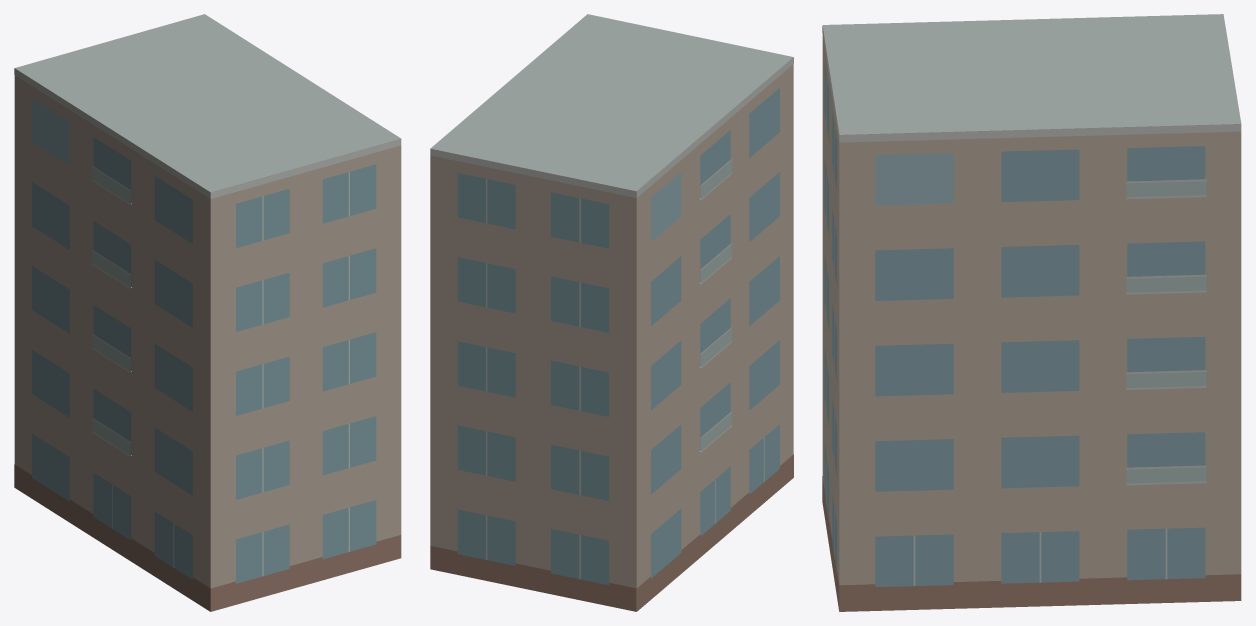
The model's file is survey-upis-32727679.glb.
3 views of the same model, side by side, from view 1: azimuth 30°, elevation 25°; view 2: azimuth 150°, elevation 25°; view 3: azimuth 270°, elevation 25° (orthographic). The views are drawn at different scales.
Visible parts, largest first — view 1: survey-upis-32727679.tmp; view 2: survey-upis-32727679.tmp; view 3: survey-upis-32727679.tmp.
Boxes of the visible parts, x1=… form: survey-upis-32727679.tmp: x1=14, y1=14, x2=401, y2=611; survey-upis-32727679.tmp: x1=430, y1=14, x2=793, y2=611; survey-upis-32727679.tmp: x1=822, y1=14, x2=1241, y2=611.
Size of the model in its own units: 8.27 by 15.2 by 12.11.
